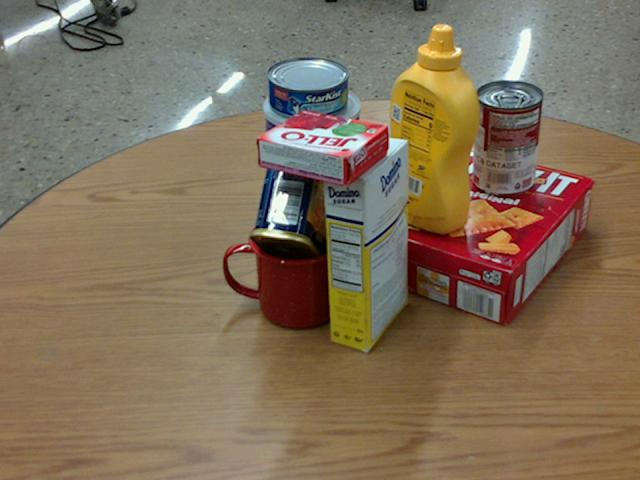cracker_box: (362, 144, 592, 324)
gelatin_box: (254, 108, 389, 186)
large_marker: (388, 106, 405, 207)
master_chef_can: (264, 83, 361, 239)
mug: (220, 211, 343, 328)
mustard_bottle: (382, 24, 479, 233)
potted_meat_can: (249, 147, 336, 266)
sugar_box: (321, 134, 407, 351)
tomato_soup_can: (471, 79, 542, 194)
tuna_fish_can: (266, 56, 348, 117)
